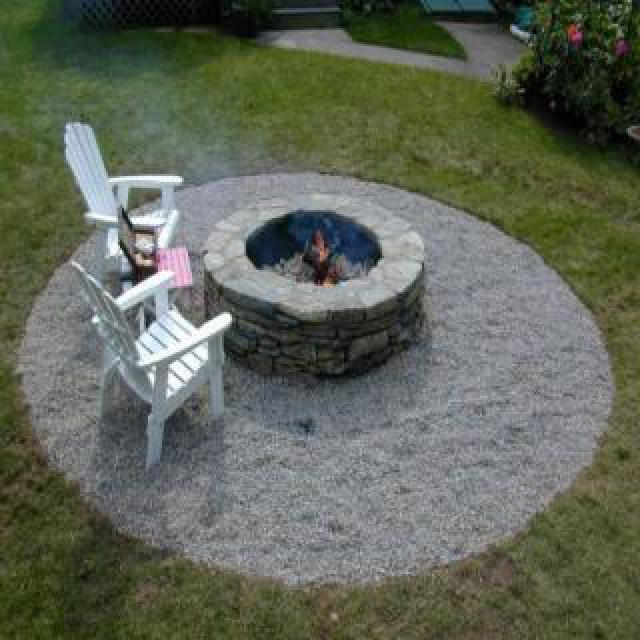Fire: (308, 226, 334, 284)
